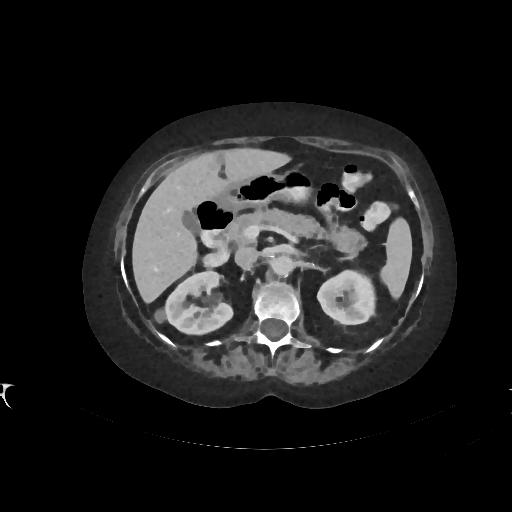Lesion: (152, 307, 170, 327)
